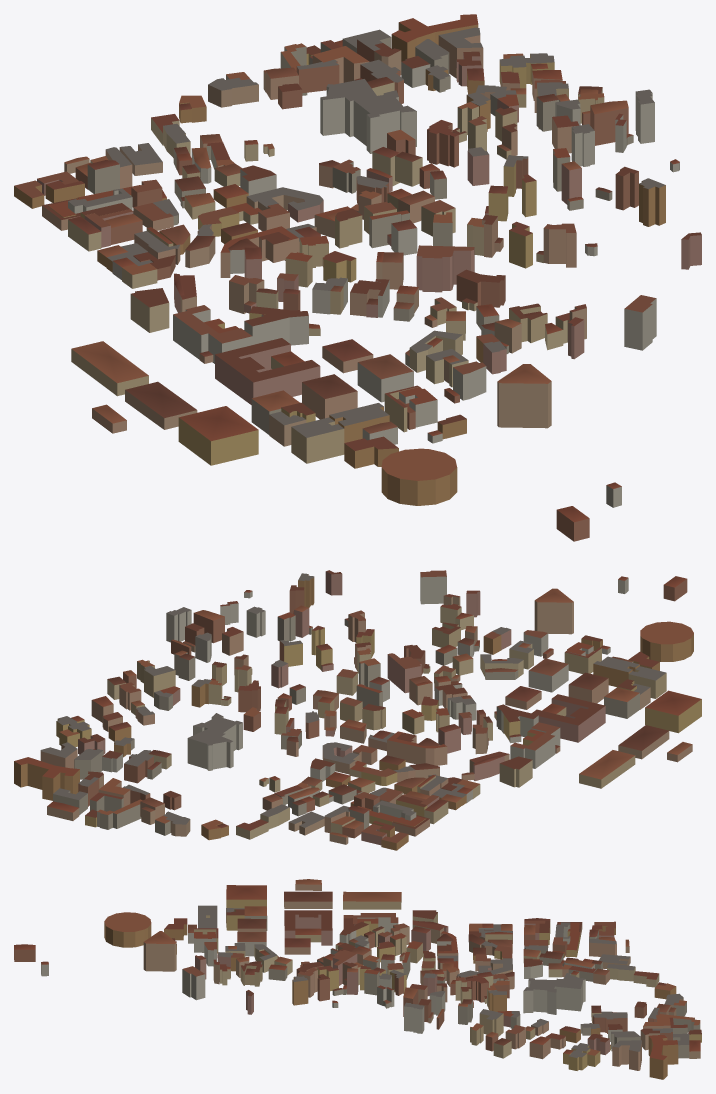
The model's file is SM_Fondale_Citta_Colle_01.fbx.
The picture shows the model from 3 angles, top to bottom: view 1: azimuth 30°, elevation 25°; view 2: azimuth 150°, elevation 25°; view 3: azimuth 270°, elevation 25°; orthographic projection. The views are drawn at different scales.
Visible parts, largest first — view 1: SM_Fondale_Citta_Colle_01; view 2: SM_Fondale_Citta_Colle_01; view 3: SM_Fondale_Citta_Colle_01.
Part boxes in pixels (left/top/right/bottom): SM_Fondale_Citta_Colle_01: left=14, top=14, right=701, bottom=541; SM_Fondale_Citta_Colle_01: left=14, top=570, right=701, bottom=850; SM_Fondale_Citta_Colle_01: left=14, top=879, right=701, bottom=1079.
Size of the model in its own units: 52294 by 75120 by 9185.
